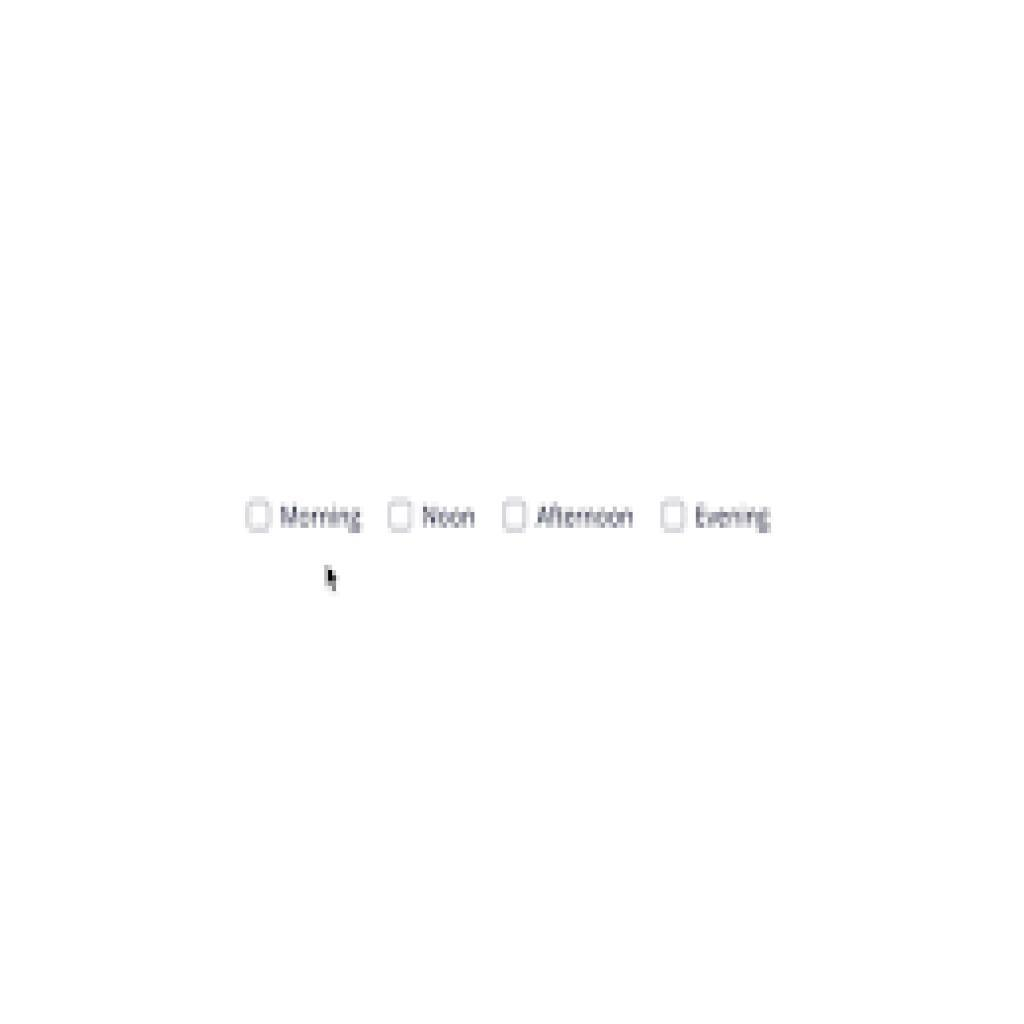label: (539, 501, 637, 536), (692, 499, 777, 538), (279, 500, 365, 538), (421, 502, 476, 534)
radio: (244, 494, 278, 539), (501, 496, 531, 534), (388, 496, 416, 536), (660, 497, 687, 535)
